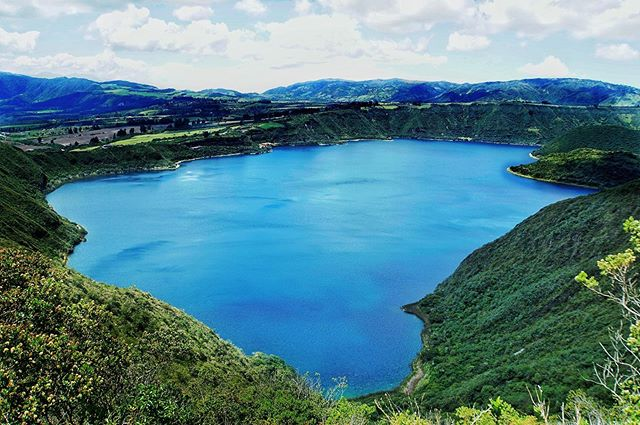river: (56, 122, 535, 392)
sky: (13, 1, 640, 72)
